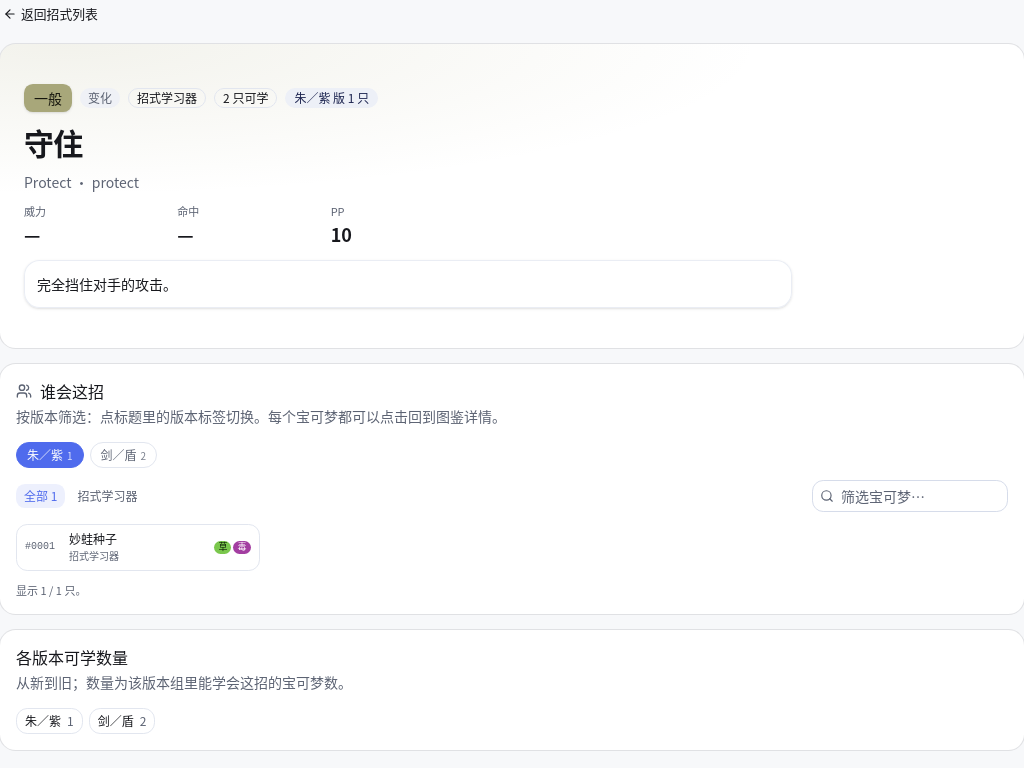
MoveDetailPage › 按名称筛选学习者
Type "超梦" into the field labelled "筛选宝可梦". click: (910,496)
box: [812,480,1008,512]
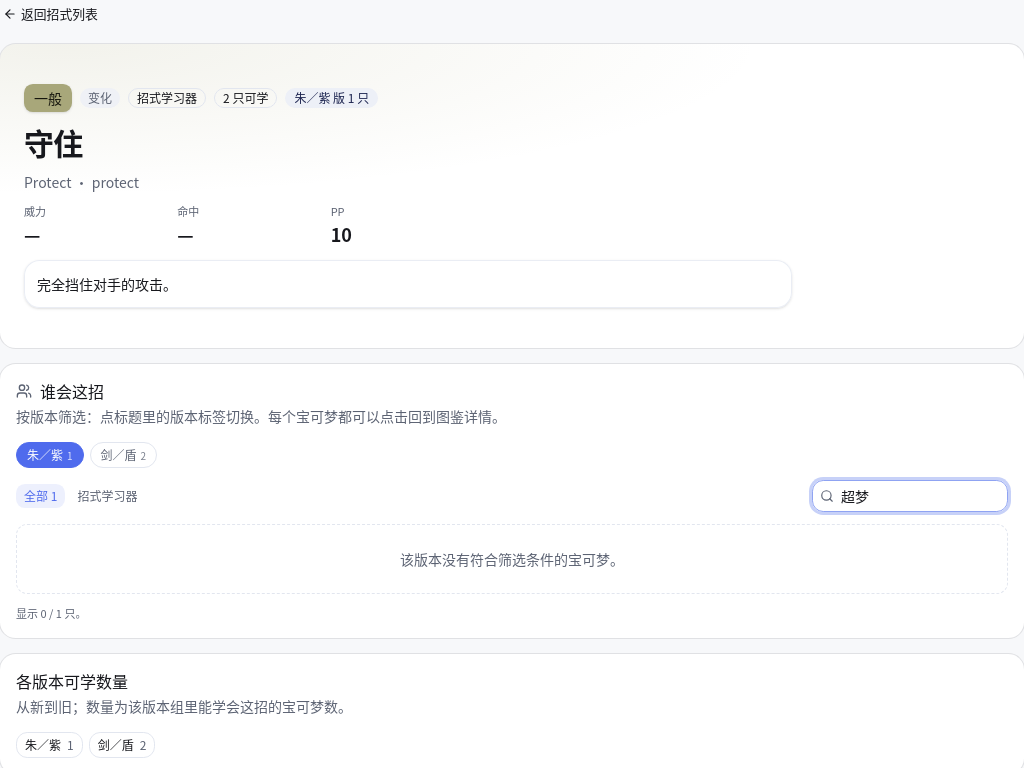
Now the link "妙蛙种子" is gone
